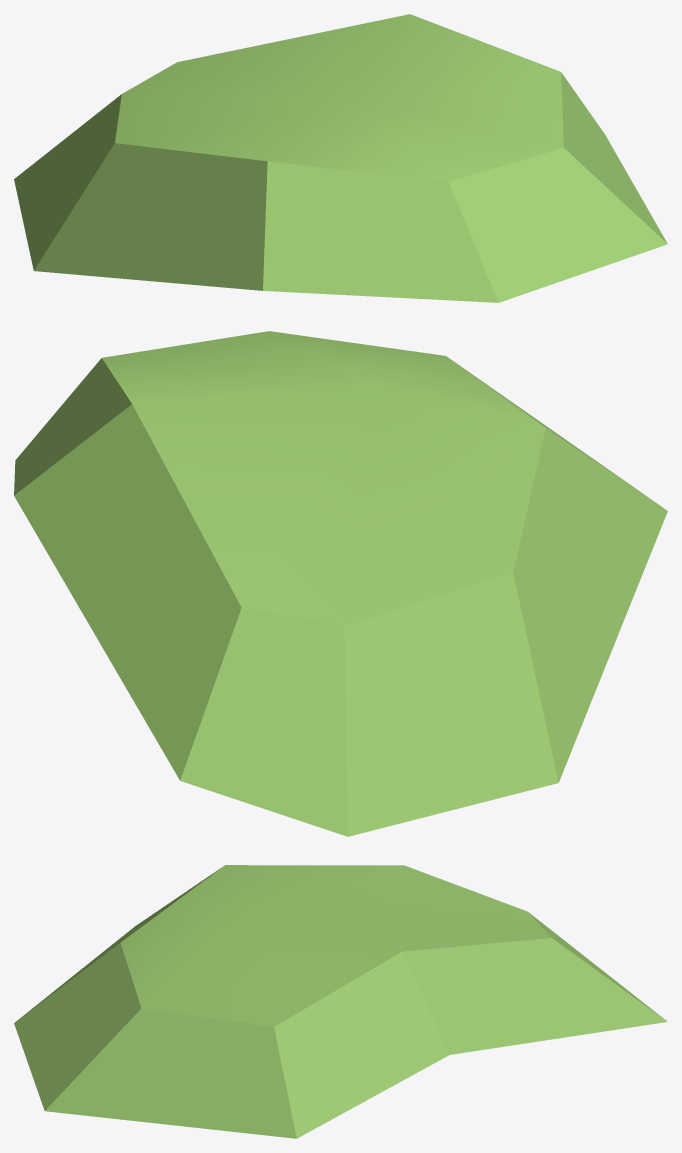
The model's file is md_leaf1.fbx.
3 renders of one model, top to bottom at view 1: azimuth 30°, elevation 25°; view 2: azimuth 150°, elevation 25°; view 3: azimuth 270°, elevation 25°, orthographic. The views are drawn at different scales.
Visible parts, largest first — view 1: pCylinder3; view 2: pCylinder3; view 3: pCylinder3.
Part boxes in pixels (x1,y1,x2,y2): pCylinder3: (14,14,667,302); pCylinder3: (14,331,667,836); pCylinder3: (14,865,667,1138).
Bounding box in the file's own units: 2.06 × 0.7512 × 2.35.
